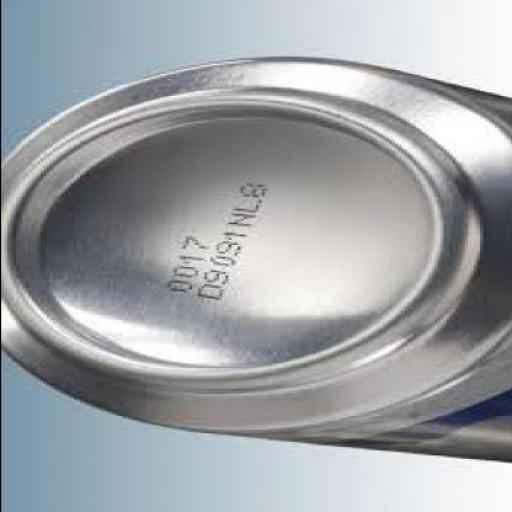metal: (0, 58, 510, 464)
